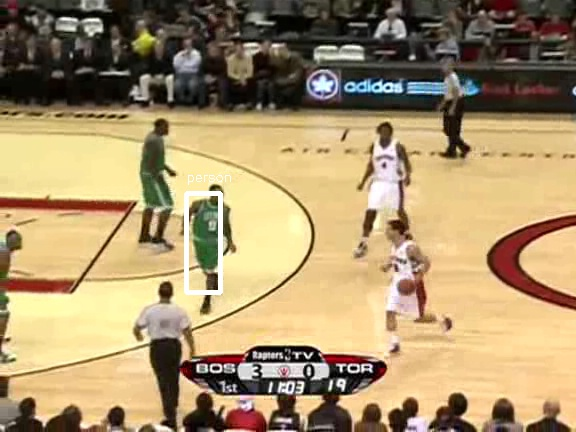person: (193, 194, 227, 275), (192, 194, 226, 275), (194, 194, 228, 275), (193, 193, 227, 274), (193, 195, 227, 276)
target_negative: (355, 23, 506, 431), (426, 12, 548, 145), (287, 77, 518, 122), (528, 85, 560, 317), (452, 90, 501, 116), (97, 287, 138, 296)
